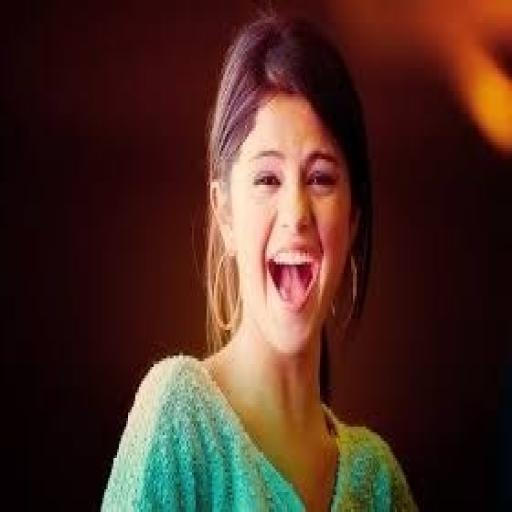laughing: (97, 8, 424, 506)
